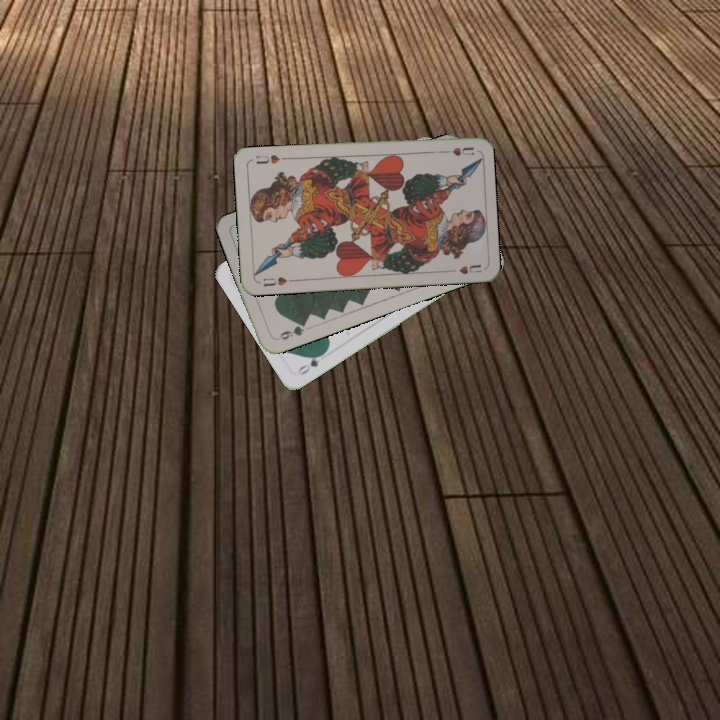G9: (272, 318, 309, 343)
GO: (293, 348, 328, 378)
HU: (437, 143, 477, 158), (259, 273, 296, 289)
